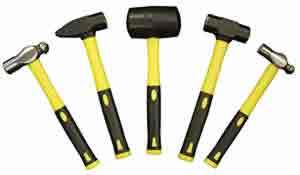hammer: (0, 39, 101, 171), (202, 41, 295, 169)
